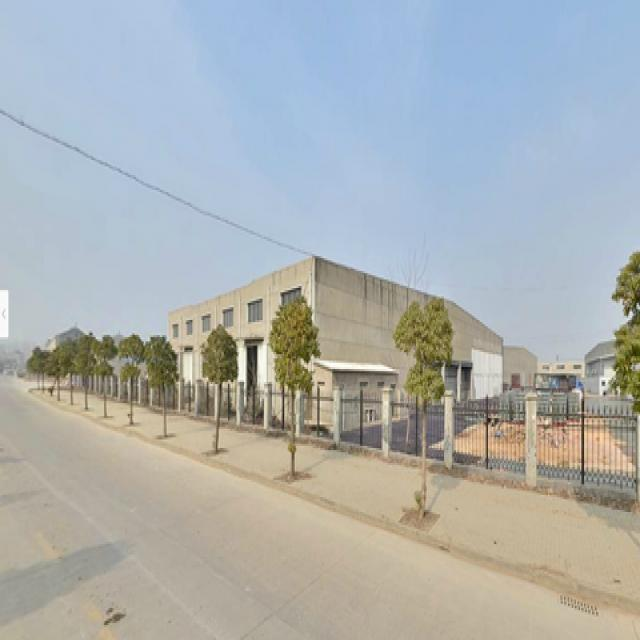cinn: (407, 294, 452, 516), (269, 303, 316, 476), (203, 322, 237, 448), (149, 337, 176, 431), (117, 337, 143, 427), (92, 335, 112, 410)
